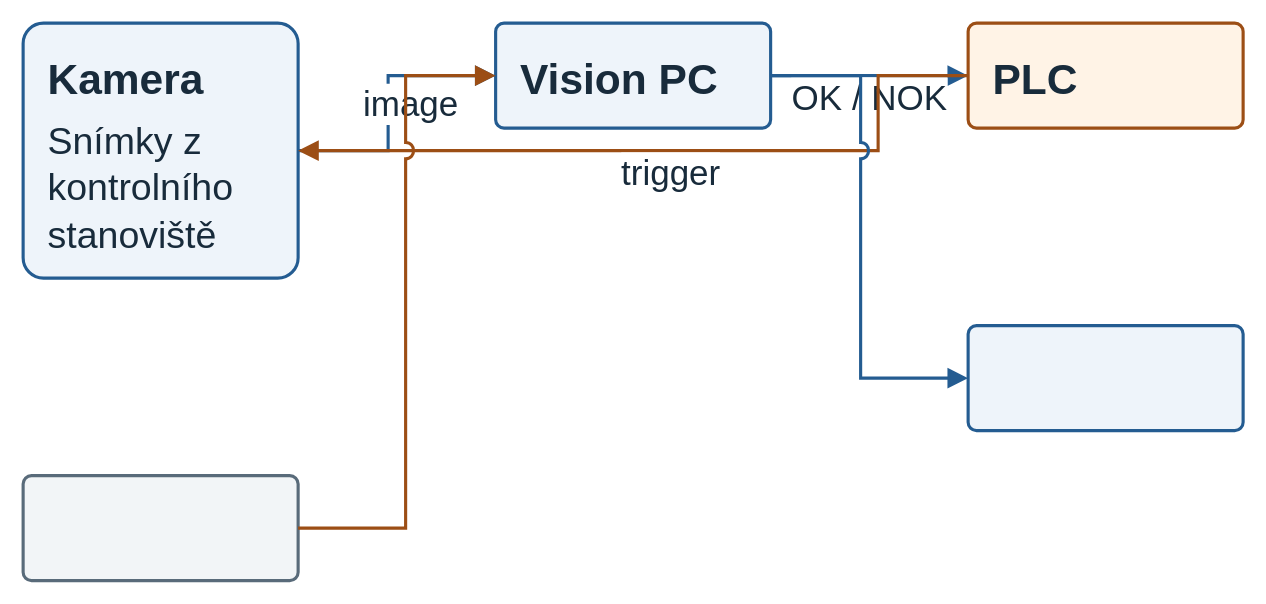
This 1266x604 diagram has some shape labels left out. Each missing label, with the box of its shape:
Archiv: (966, 324, 1244, 432)
Operátor: (21, 474, 299, 582)
